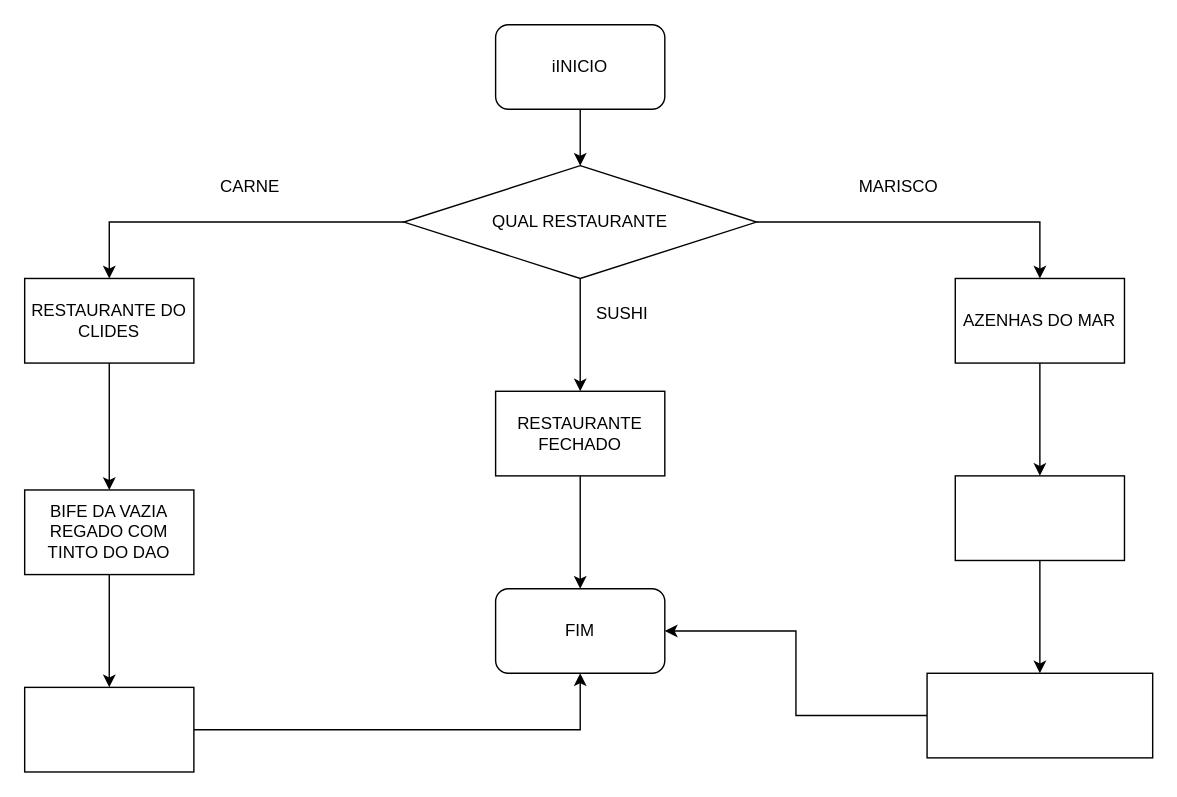
This 1177x797 diagram has some shape labels left out. Here are the shapes that lost their labels. From the top down, the centre of each, then its label:
pixel 1039 517: CATAPLANA DE POLVO
pixel 108 729: PASSERAR NO PIODAO
pixel 1039 715: PASSEAR A BEIRA MAR
